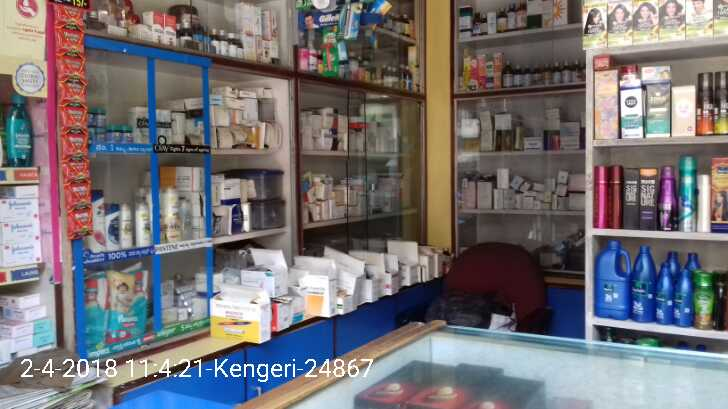vicks: (88, 108, 133, 144)
